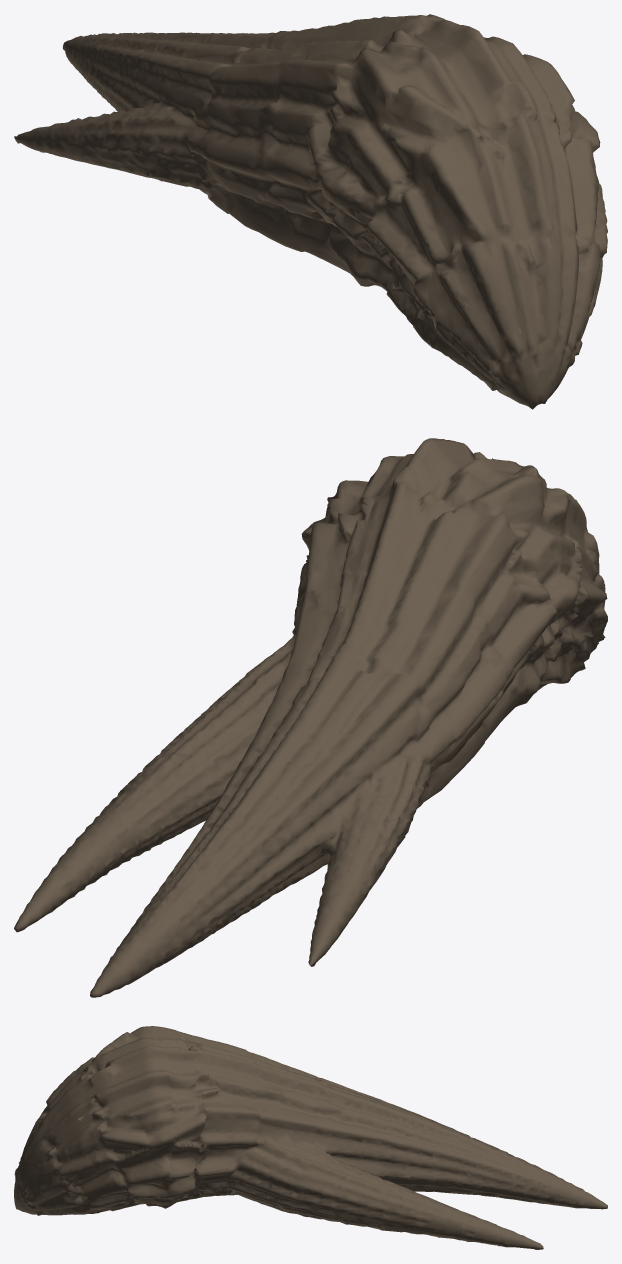
The model's file is WorldTree_RootSection.fbx.
The picture shows the model from 3 angles, top to bottom: view 1: azimuth 30°, elevation 25°; view 2: azimuth 150°, elevation 25°; view 3: azimuth 270°, elevation 25°; orthographic projection. The views are drawn at different scales.
Visible parts, largest first — view 1: WorldTree_RootSection; view 2: WorldTree_RootSection; view 3: WorldTree_RootSection.
Part boxes in pixels (x1,y1,x2,y2): WorldTree_RootSection: [14, 14, 607, 409]; WorldTree_RootSection: [14, 438, 607, 997]; WorldTree_RootSection: [14, 1026, 607, 1249].
Bounding box in the file's own units: 4 × 4 × 12.
